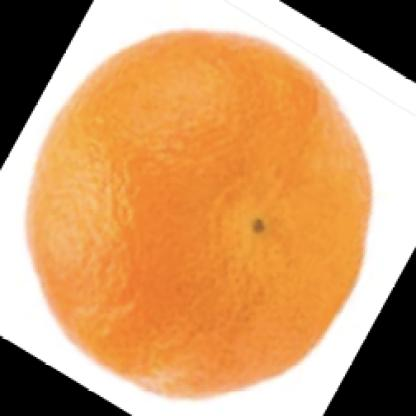fresh: (28, 29, 371, 398)
